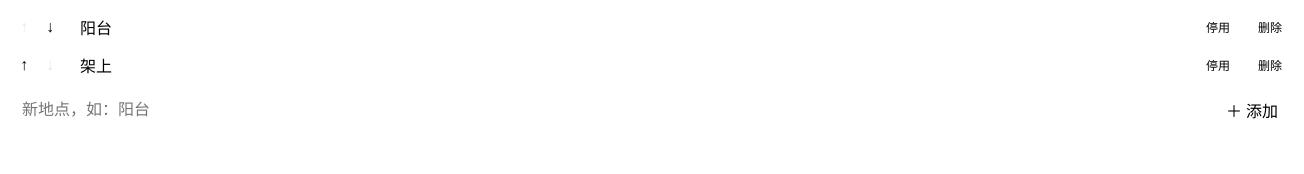
Test: 地点管理面板（票 04 轻提示接线） › 新增：空名/重名字段级校验维持内联不进轻提示；合法新增为纯本地行不落库不弹
Click the button with class "loc-add-btn". click: [1252, 110]
box: x1=1212 y1=92 x2=1292 y2=128
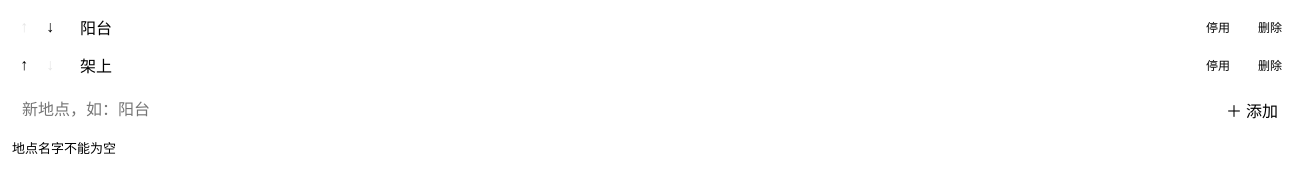
Now the text with class "loc-error" shows "不能为空", box x1=12 y1=141 x2=116 y2=156
Type "阳台" into the field with class "loc-add-input". click: [608, 110]
box: x1=12 y1=92 x2=1204 y2=128
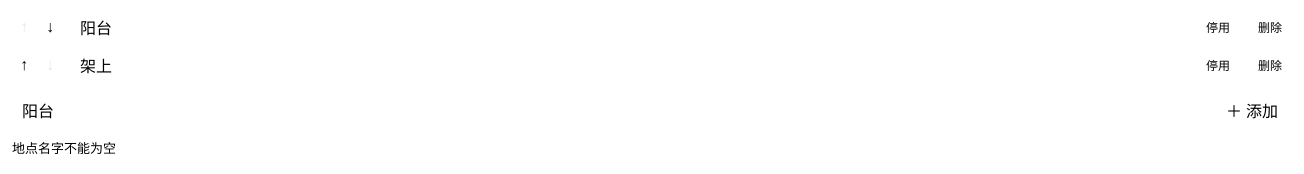
Click the button with class "loc-add-btn". click: [1252, 110]
box: x1=1212 y1=92 x2=1292 y2=128
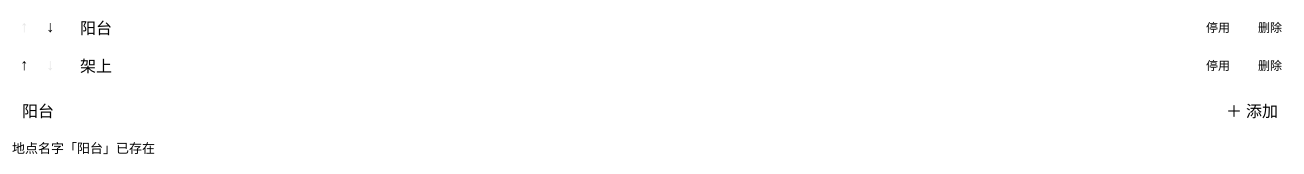
Now the text with class "loc-error" shows "已存在", box x1=12 y1=141 x2=155 y2=156
合法新增：纯本地行，不调 IPC 也不弹（落库在「保存」）
Replace the text in the field with class "loc-add-input" with "窗台". click: [608, 110]
box: x1=12 y1=92 x2=1204 y2=128
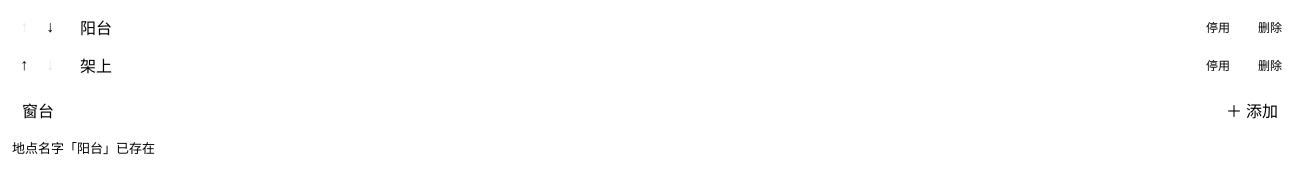
Click the button with class "loc-add-btn". click: [1252, 110]
box: x1=1212 y1=92 x2=1292 y2=128
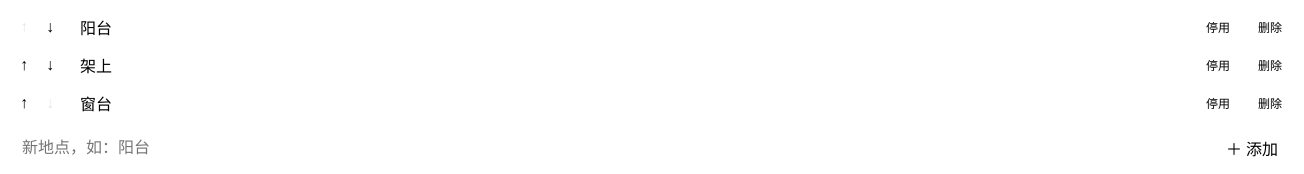
Now the number of elements with class "loc-row" is 3, box x1=12 y1=12 x2=1292 y2=42; x1=12 y1=50 x2=1292 y2=80; x1=12 y1=88 x2=1292 y2=118
